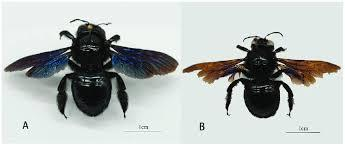Xylocopa: (11, 11, 175, 129), (194, 23, 333, 126)
